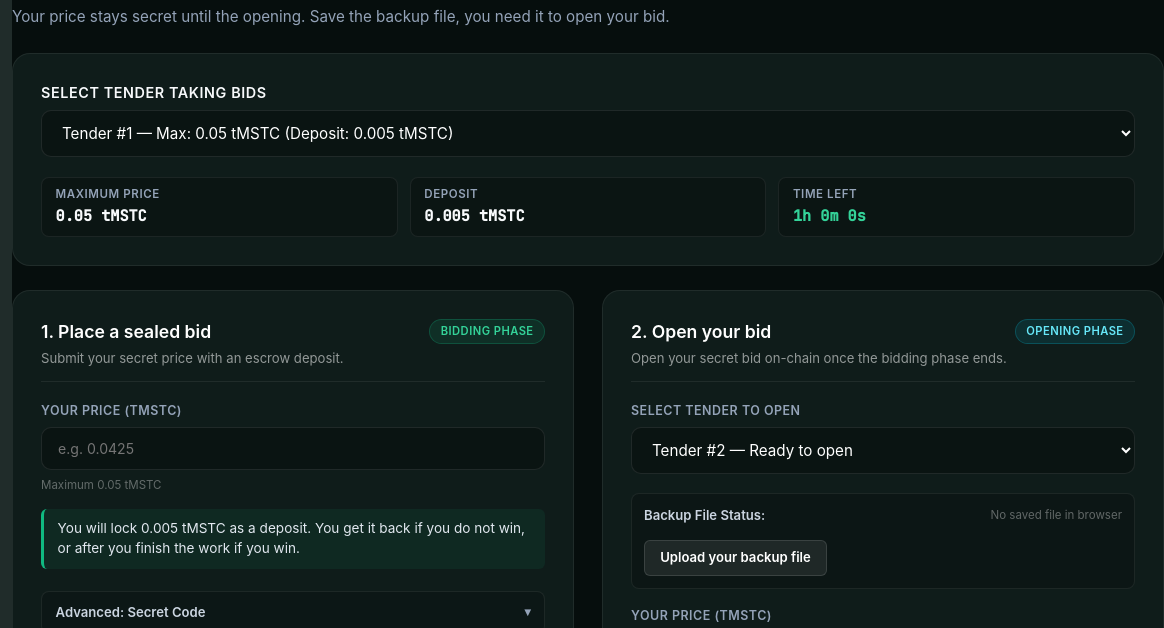
Test: BidderTab Component Tests › validates bid amount against ceiling price
Type "0.06" into the number field with placeholder "e.g. 0.0425". click: (293, 449)
box: [41,428,545,470]
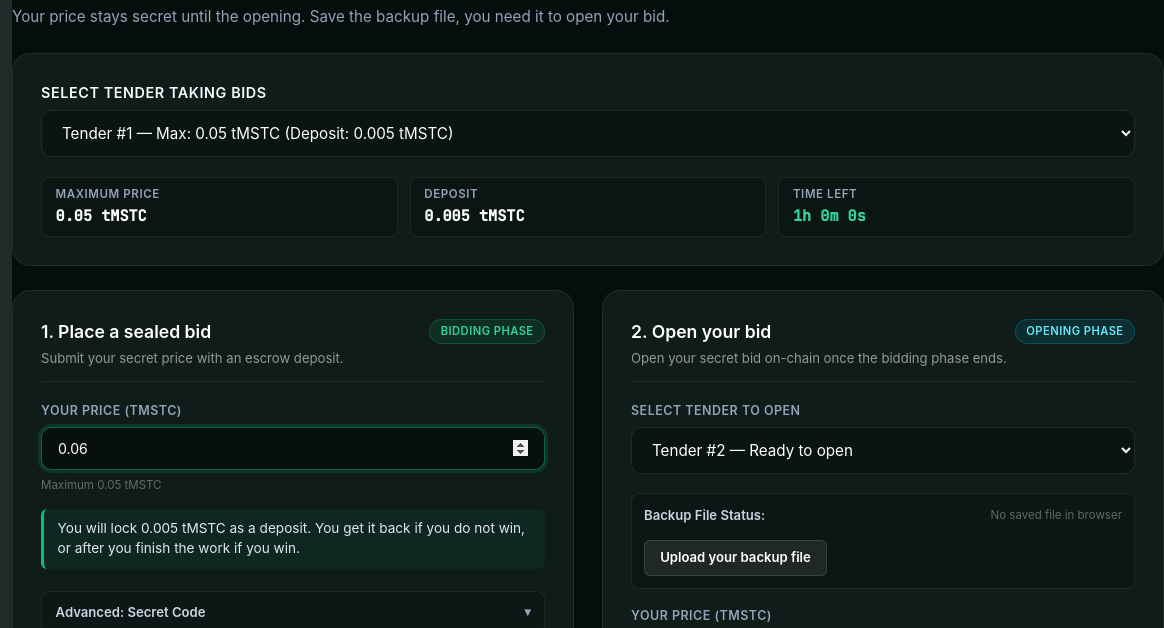
Clear and enter valid amount within ceiling (0.04)
Replace the text in the number field with placeholder "e.g. 0.0425" with "0.04". click: (293, 449)
box: [41,428,545,470]
(page scrolled)
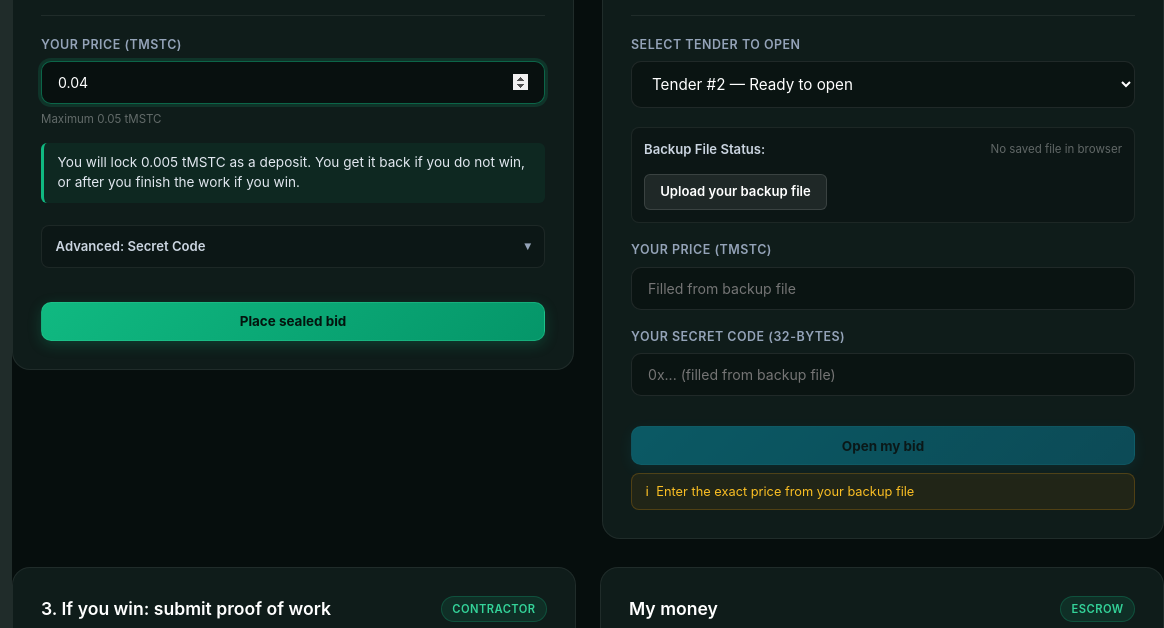
Expected: the button "Place sealed bid" is enabled, [41,302,545,341]
